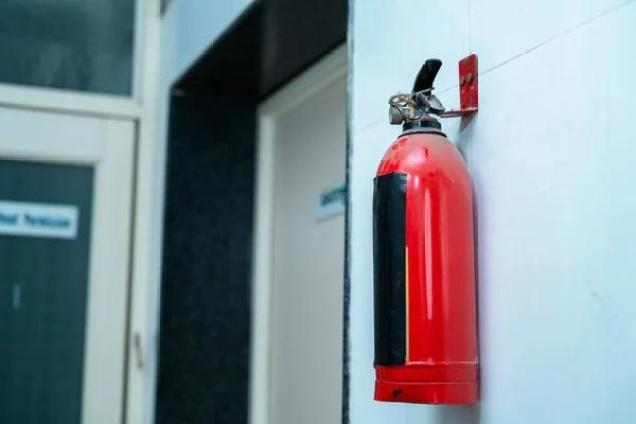Whiteboard: (371, 57, 479, 405)
